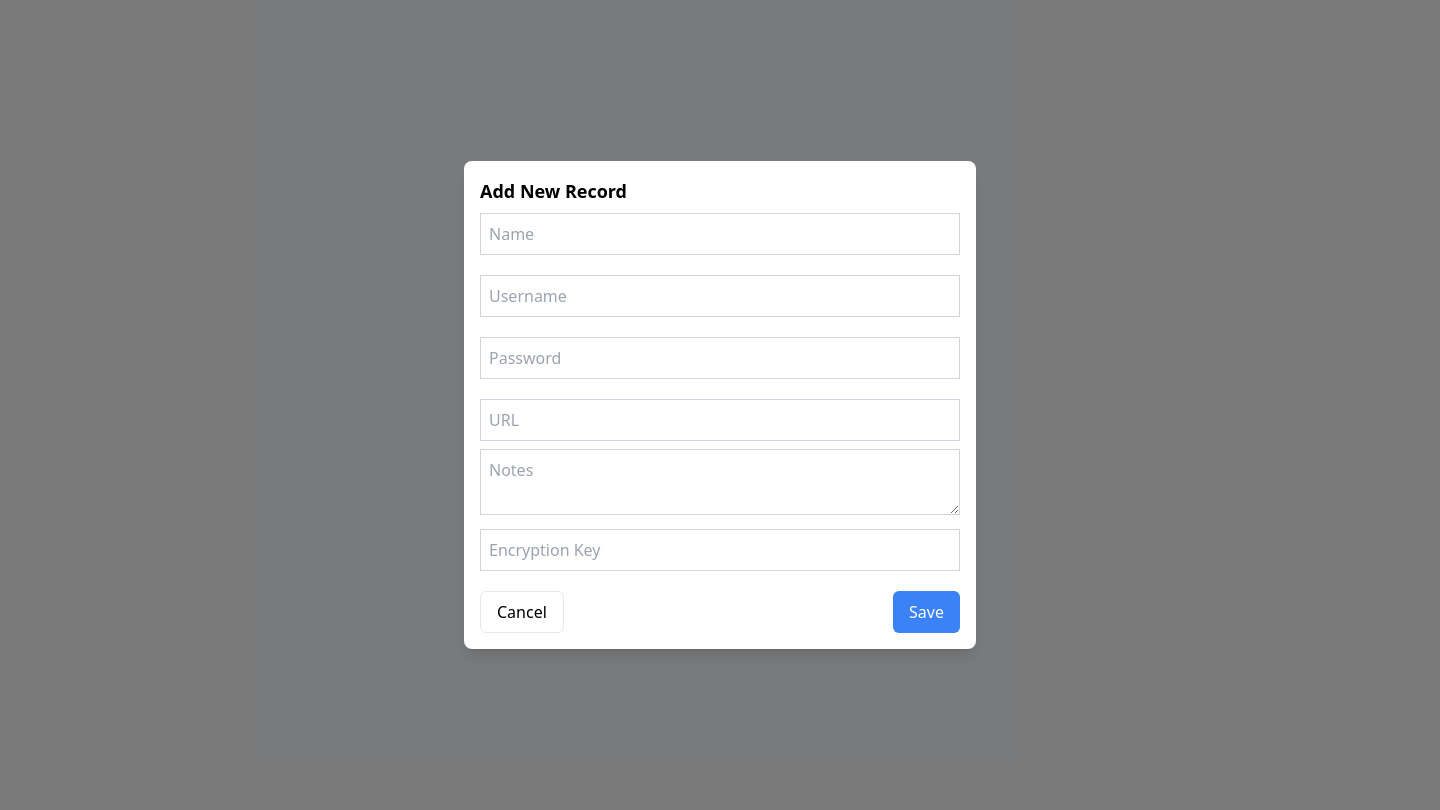
Scenario: PasswordRecordModal › handles API errors and displays error messages
In the field with placeholder "Name": (720, 234) 480,213 -> 960,255, type "Test Name"
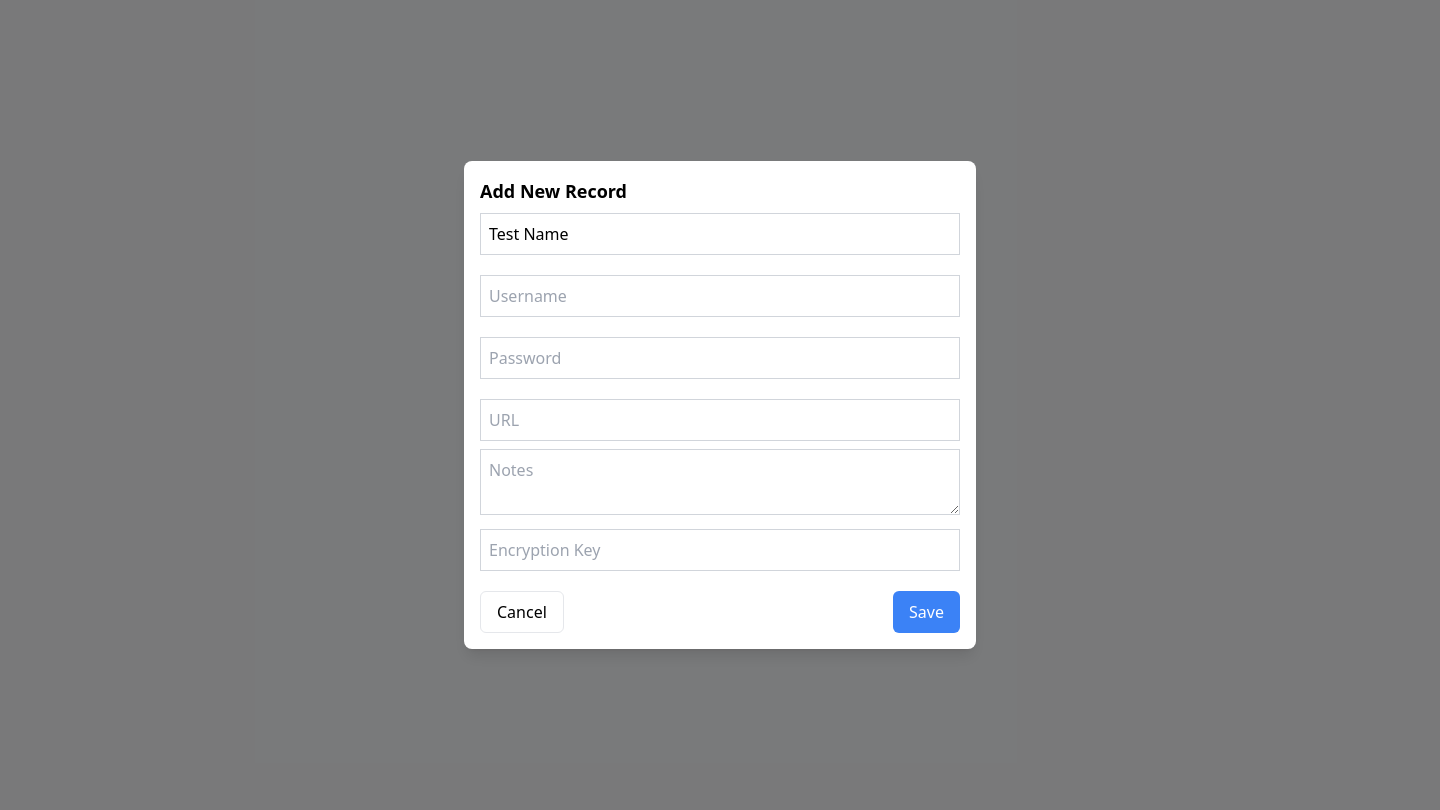
In the field with placeholder "Username": (720, 296) 480,275 -> 960,317, type "Test Username"
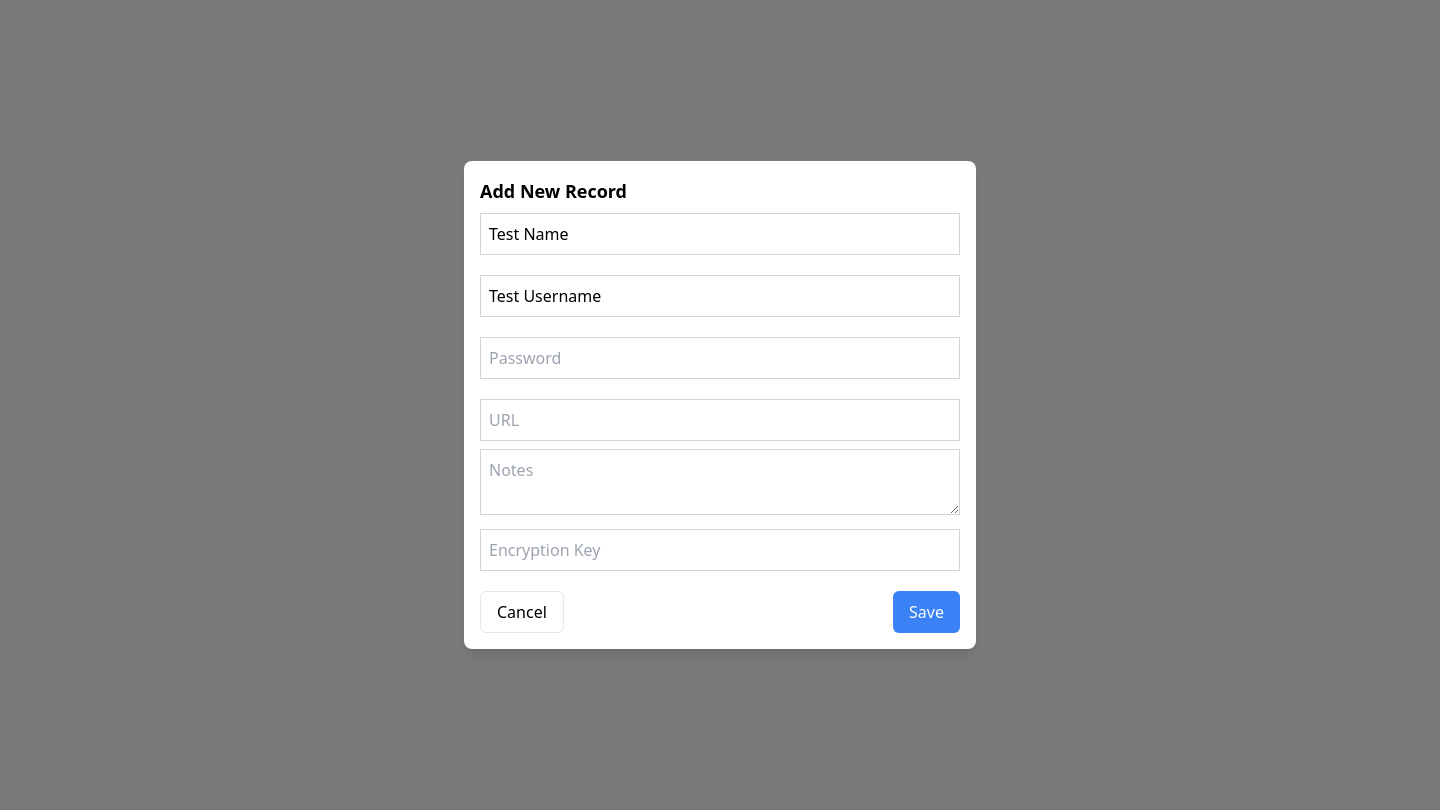
In the password field with placeholder "Password": (720, 358) 480,337 -> 960,379, type "Test Password"
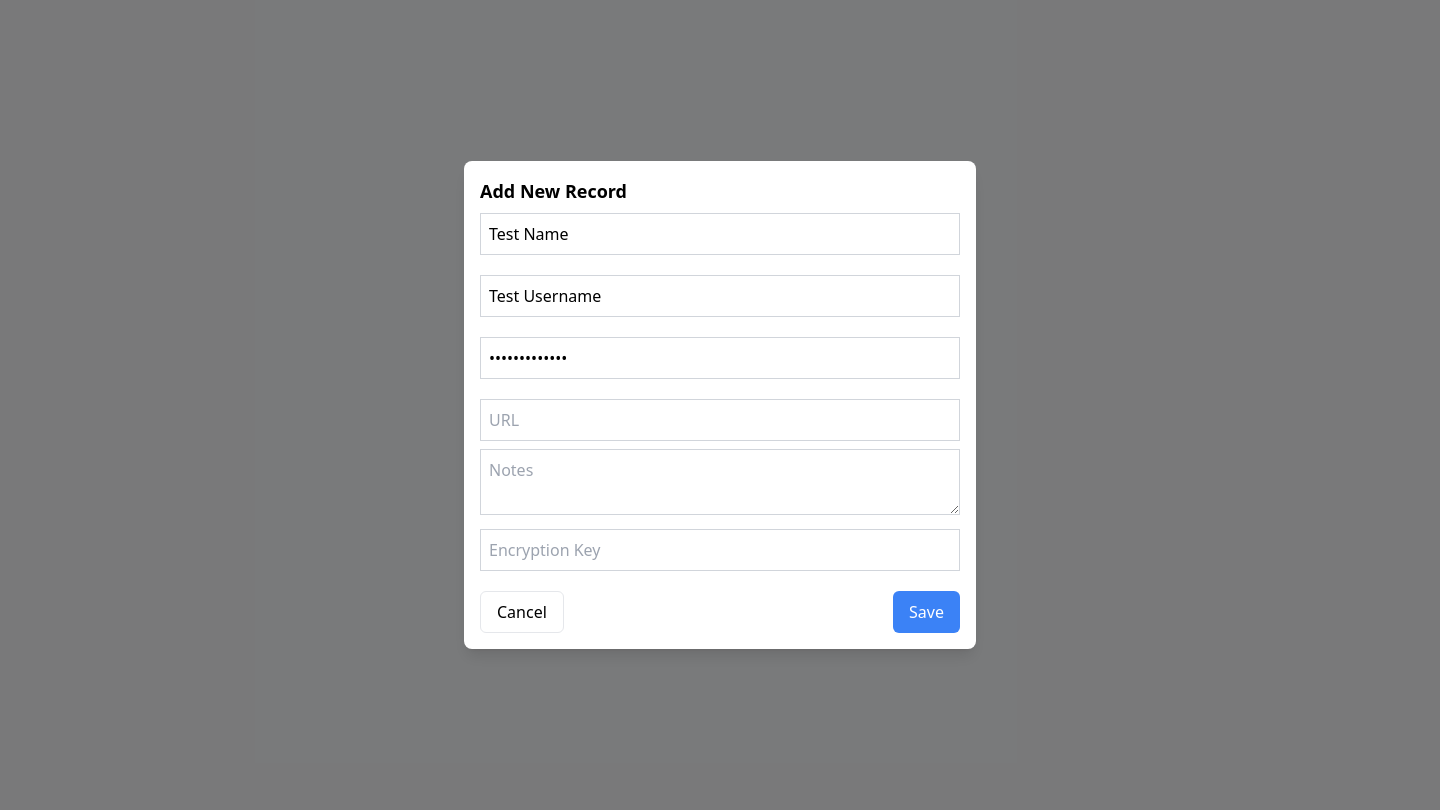
In the password field with placeholder "Encryption Key": (720, 550) 480,529 -> 960,571, type "Test Encryption Key"
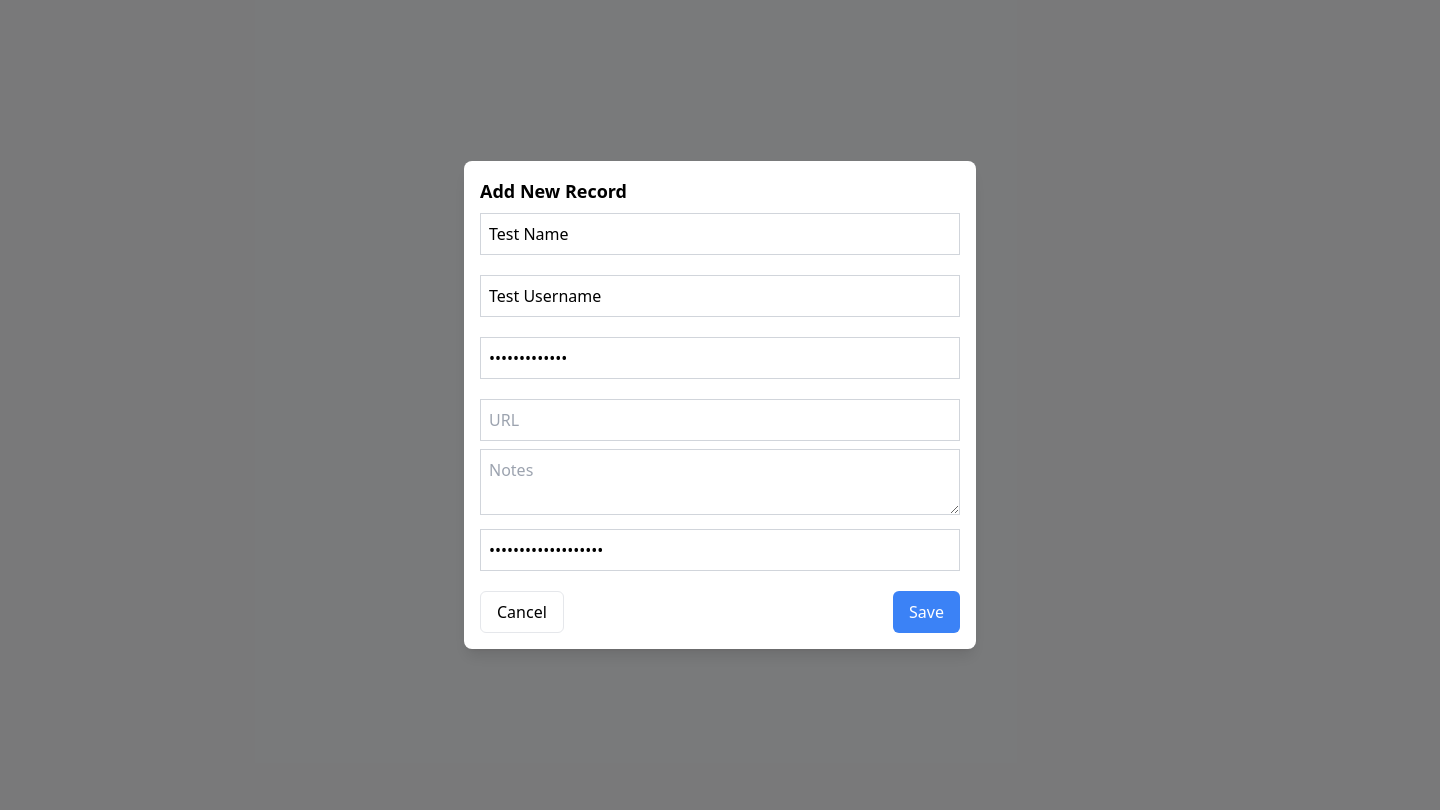
Click the button with test id "record-save-button": (927, 612) 893,591 -> 960,633
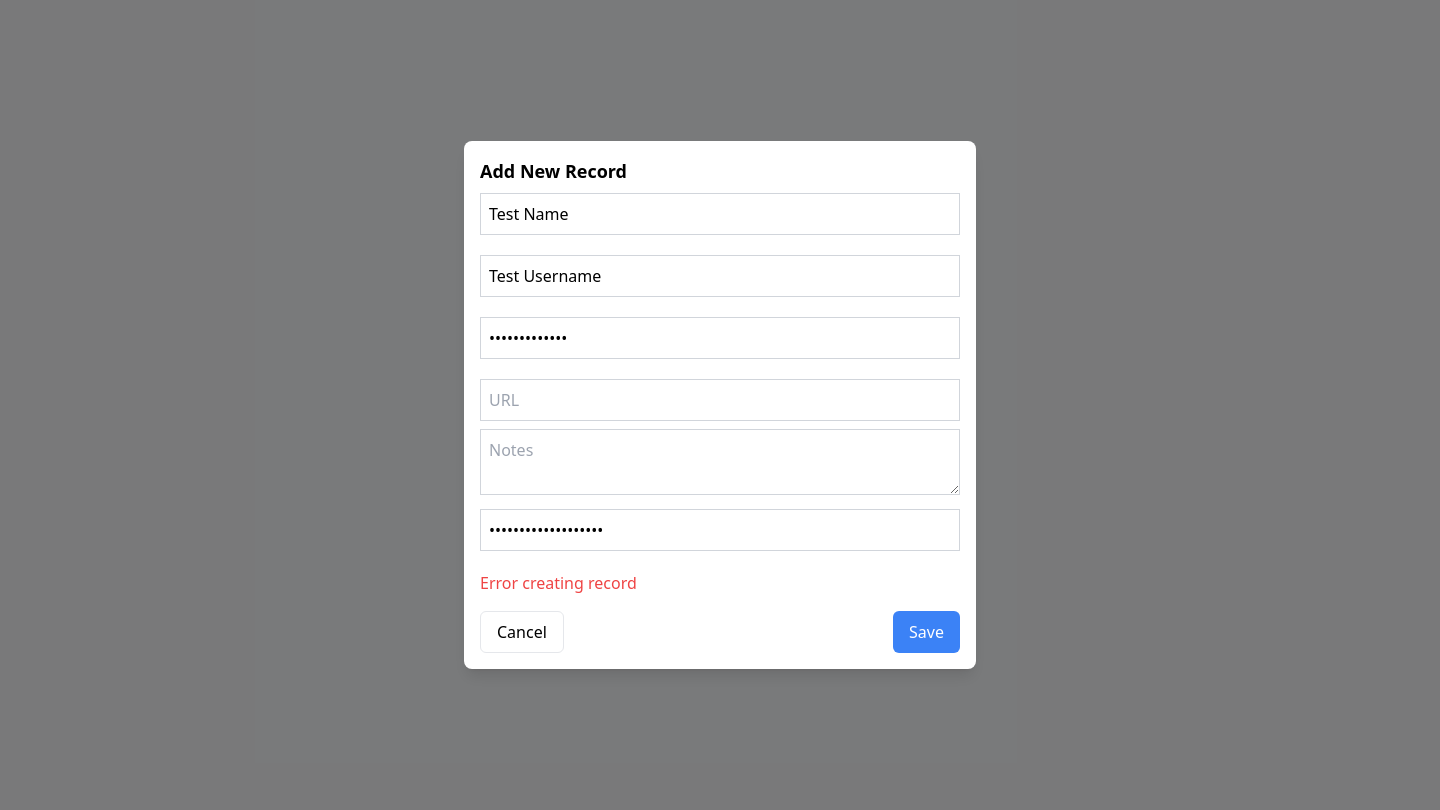
Now the list item "Error creating record" is shown, box 480,572 -> 637,594
